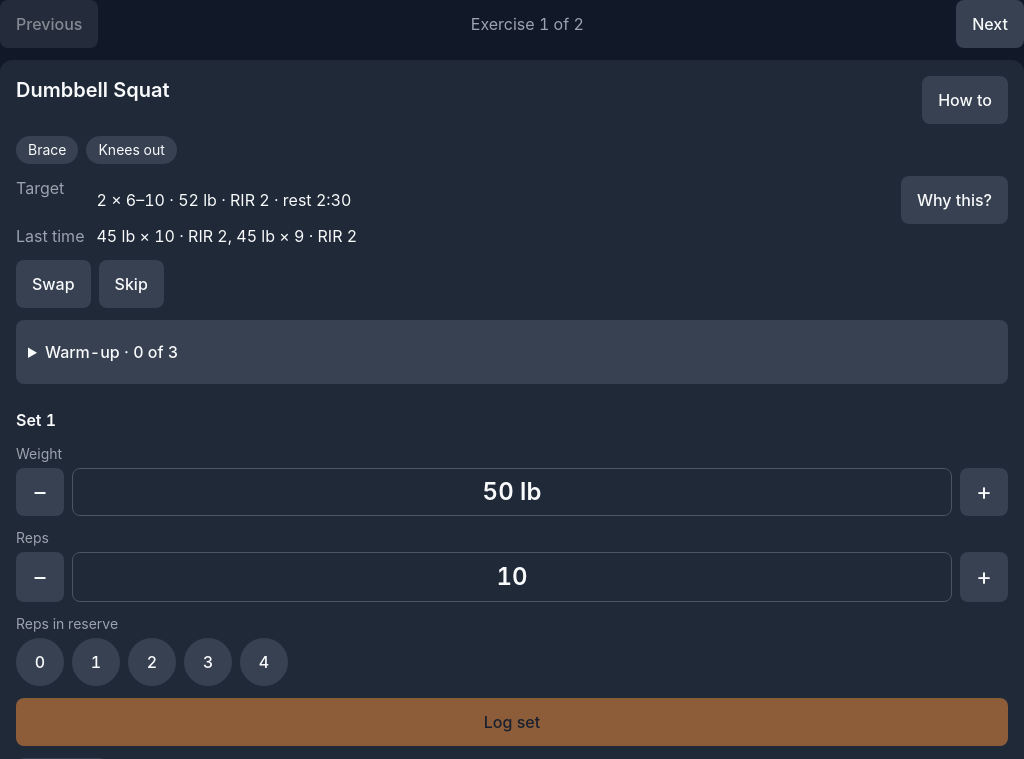
Test: LiftPlayer › load picker › never shows a weight the rack can't make
The image size is (1024, 759).
Click the button with aria-label "Weight: 50 lb". click: (512, 492)
box: [72,468,952,516]
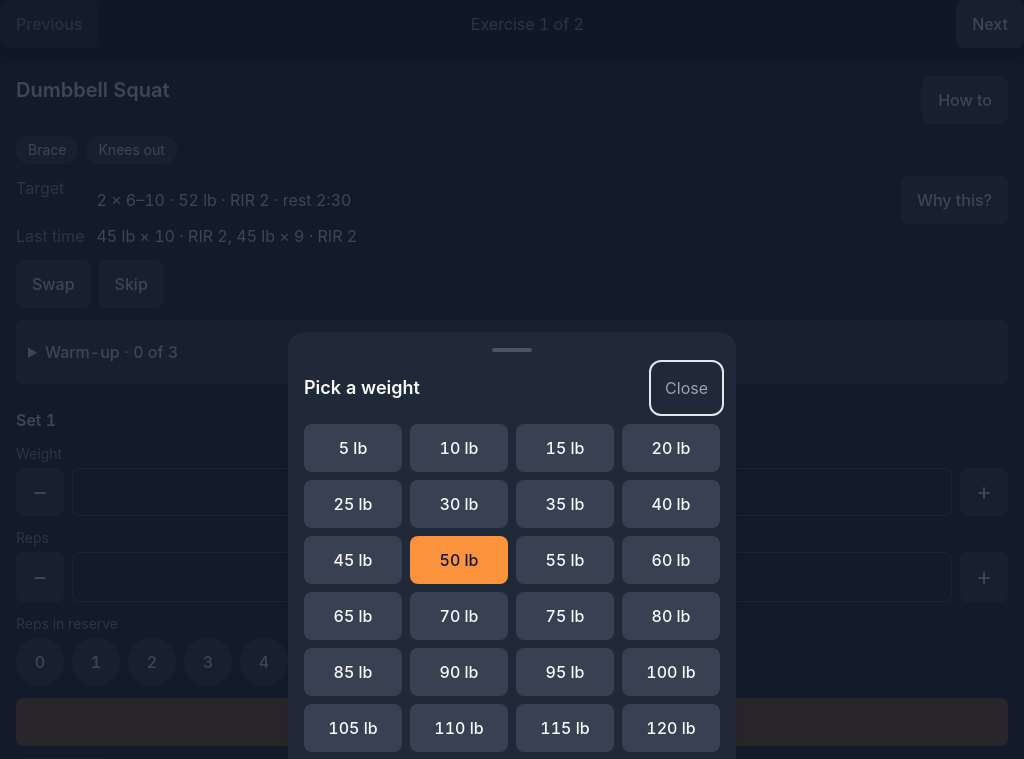
Click the button "55 lb". click: (565, 560)
box: [516,536,614,584]
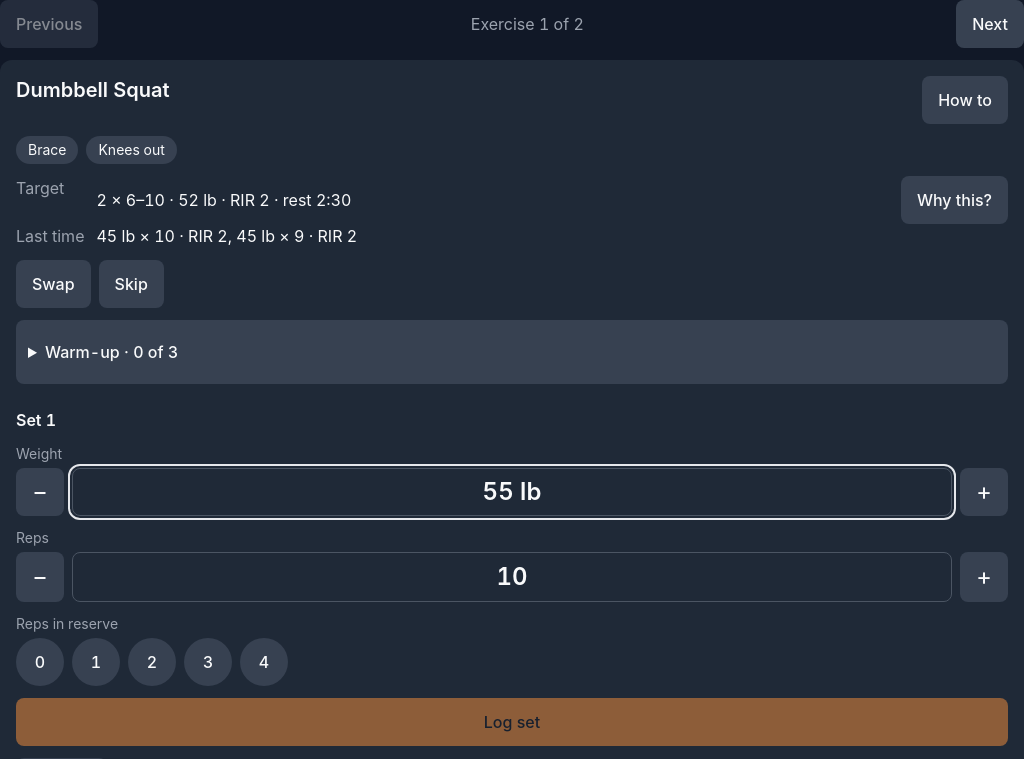
Click the button named "Increase Weight". click: (984, 492)
box: [960,468,1008,516]
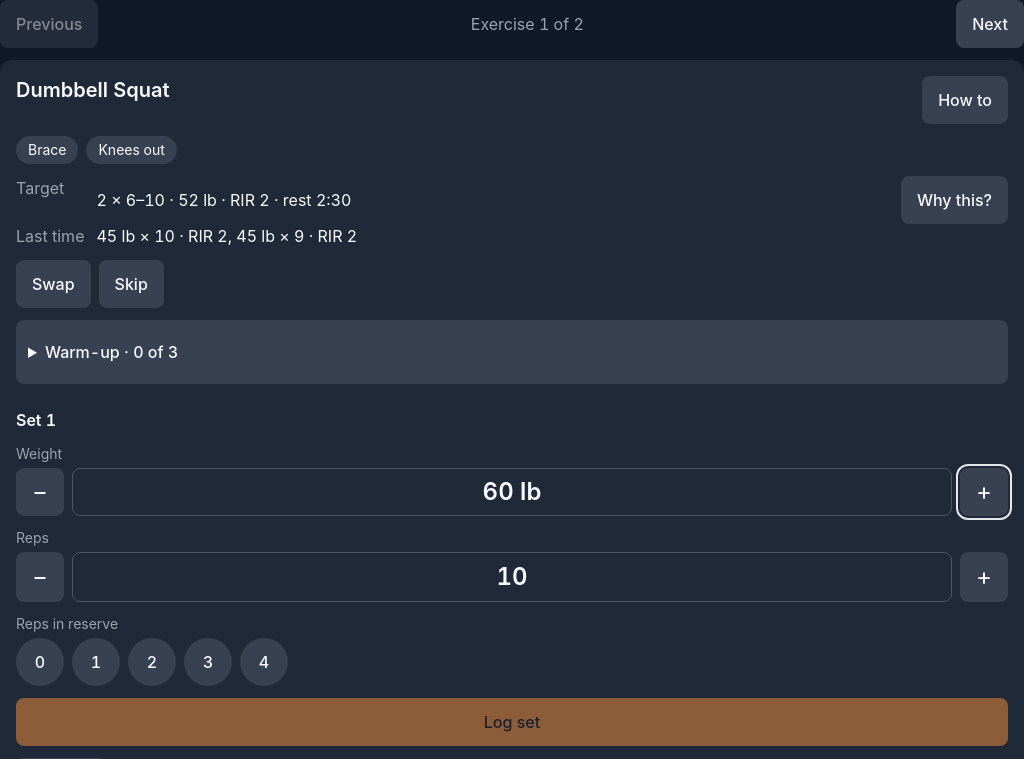
Click the radio button labelled "2". click: (152, 662)
box: [128,638,176,686]
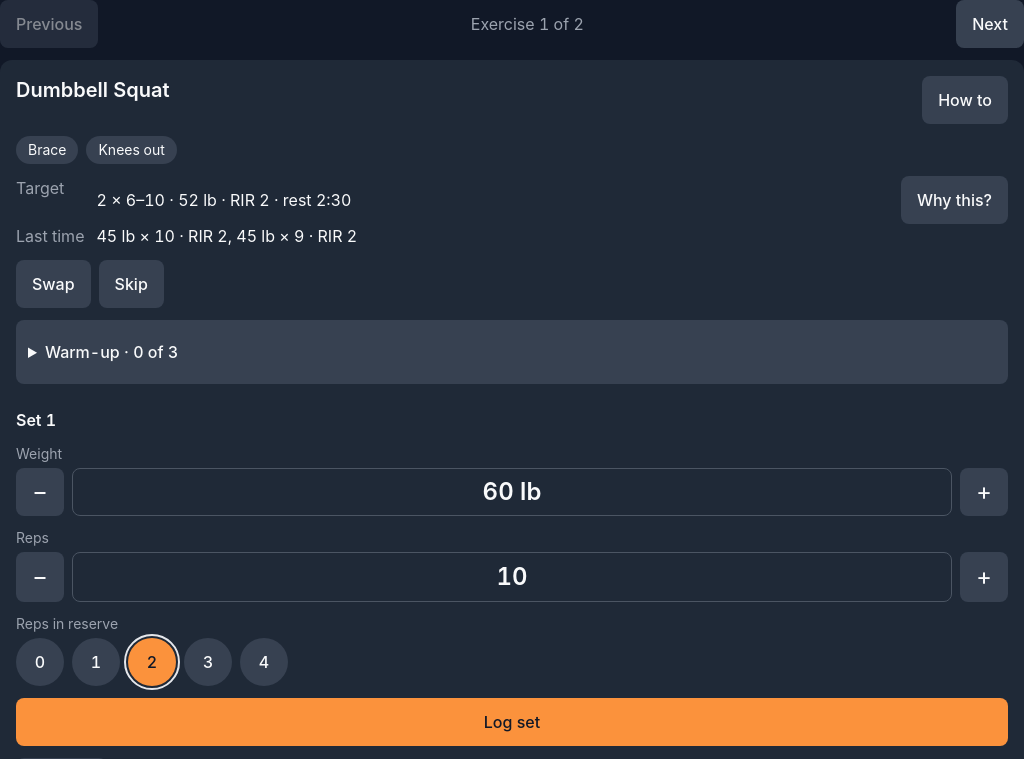
Click the button "Log set". click: (512, 722)
box: [16,698,1008,746]
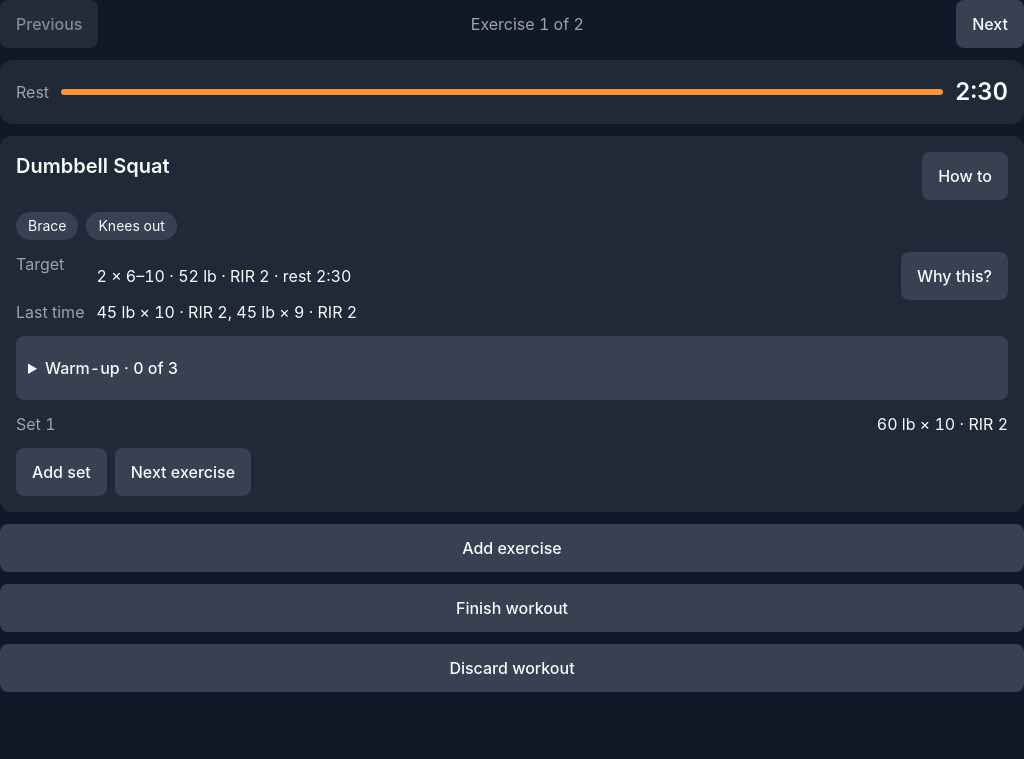
Expected: the text "60 lb × 10 · RIR 2" is shown, [877,412,1008,436]
